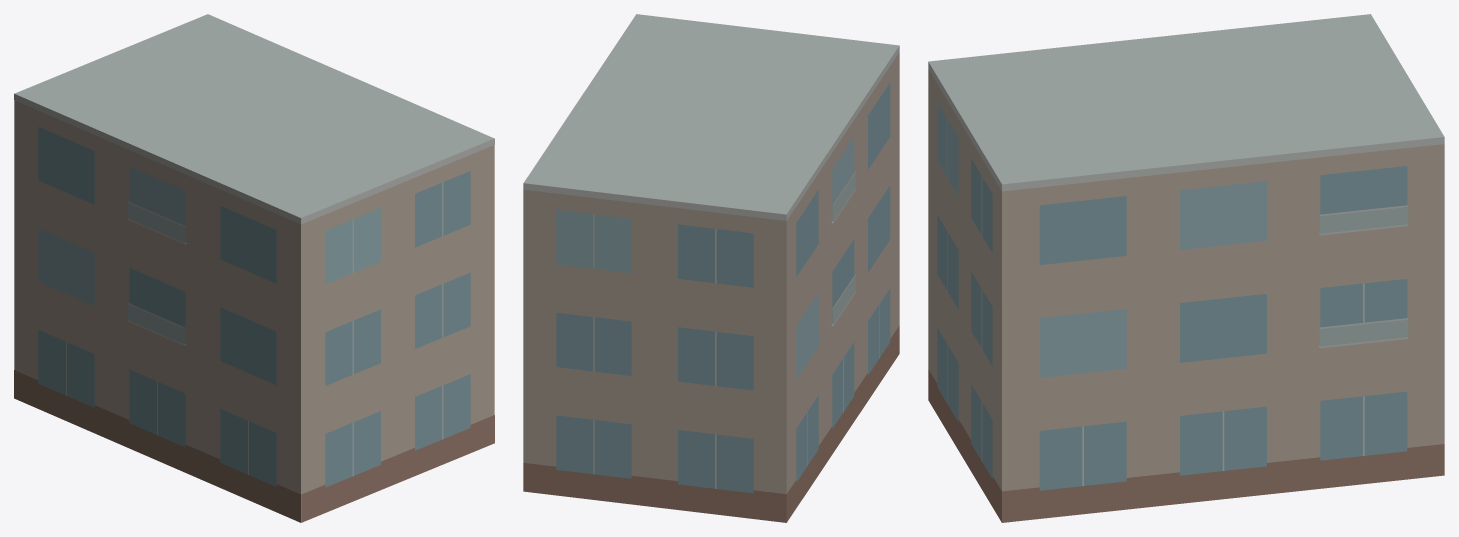
The model's file is survey-upis-32472809.glb.
The picture shows the model from 3 angles, left to right: view 1: azimuth 30°, elevation 25°; view 2: azimuth 150°, elevation 25°; view 3: azimuth 270°, elevation 25°; orthographic projection. The views are drawn at different scales.
Parts seen in each view (by area): view 1: survey-upis-32472809.tmp; view 2: survey-upis-32472809.tmp; view 3: survey-upis-32472809.tmp.
Boxes of the visible parts, x1=… form: survey-upis-32472809.tmp: x1=14, y1=14, x2=494, y2=522; survey-upis-32472809.tmp: x1=523, y1=14, x2=899, y2=522; survey-upis-32472809.tmp: x1=928, y1=14, x2=1444, y2=522.
Bounding box in the file's own units: 12.64 × 11.7 × 16.19.
